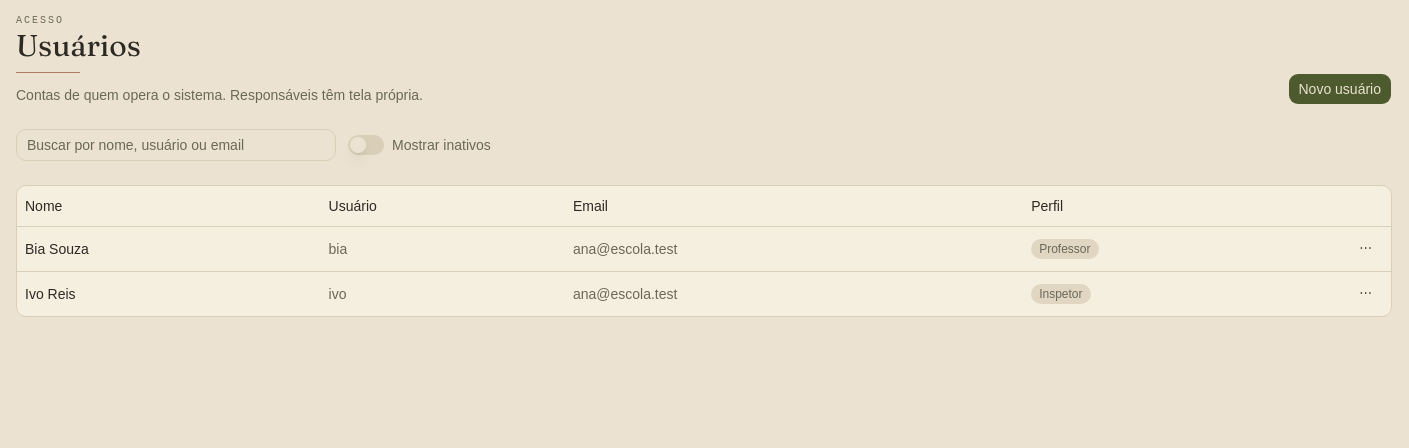
Test: UsuariosPage › linka pra ficha só de quem é professor
Expected: the text "Bia Souza" is shown, top-left (25, 240), bottom-right (89, 256)
Click the button named "Ações de bia" at (1366, 248), box top-left (1348, 234), bottom-right (1383, 262)
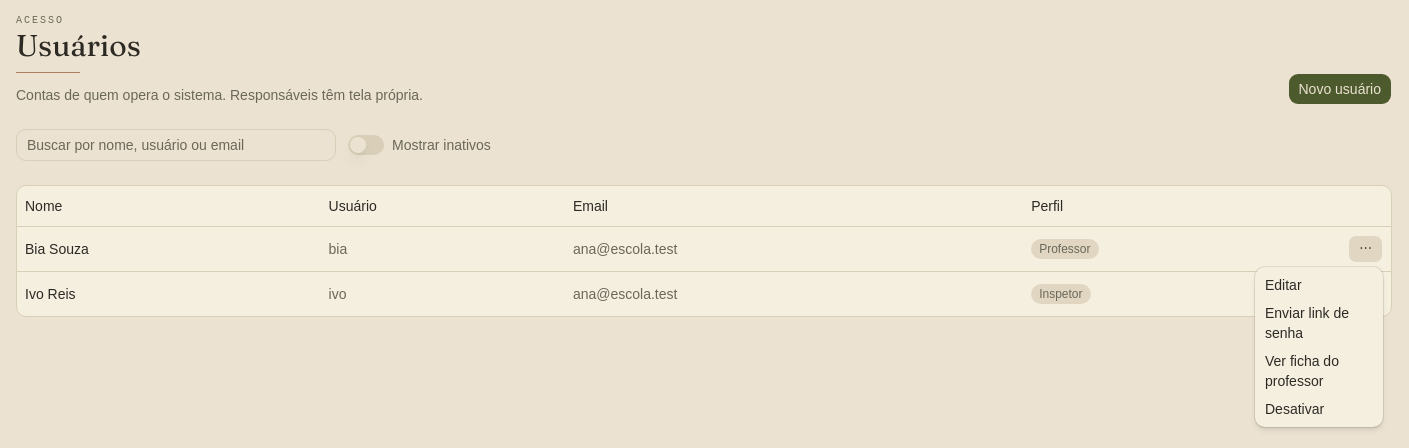
Press Escape
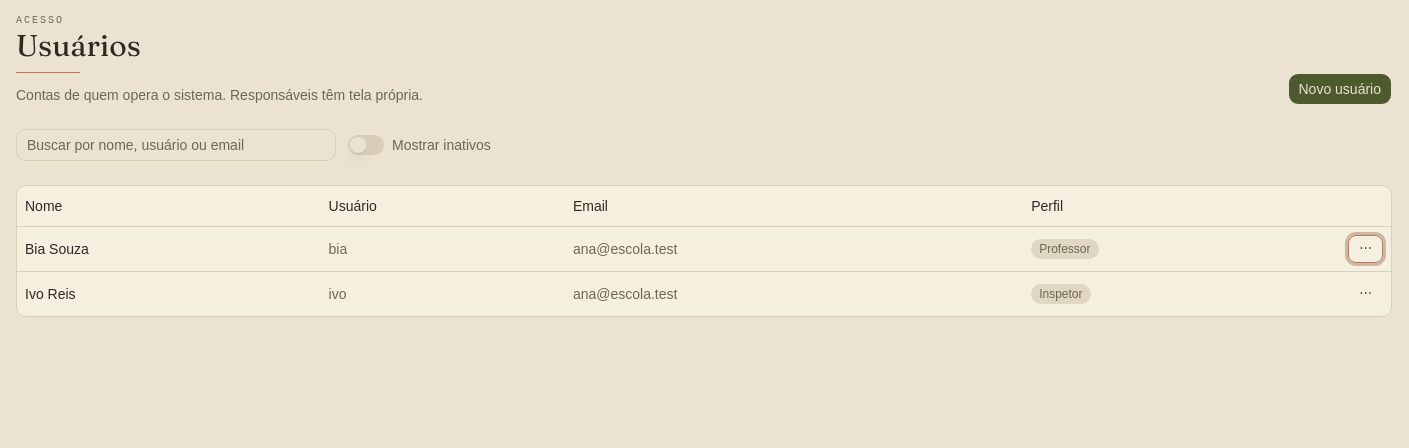
Click the button named "Ações de ivo" at (1366, 294), box top-left (1348, 280), bottom-right (1383, 308)
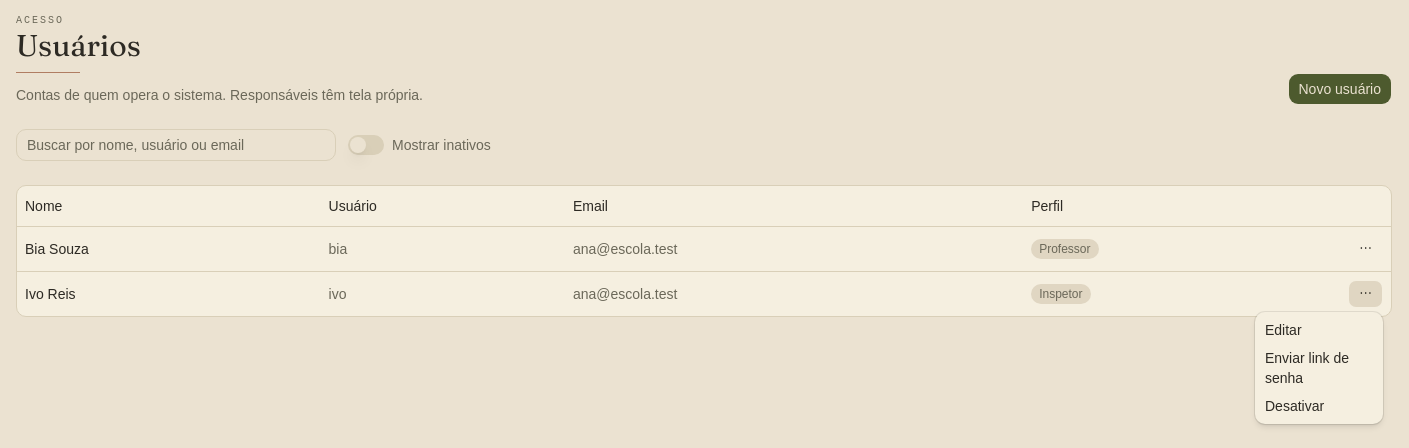
Expected: the menu item "Ver ficha do professor" is not shown
Expected: the menu item "Editar" is shown, top-left (1265, 322), bottom-right (1302, 338)
